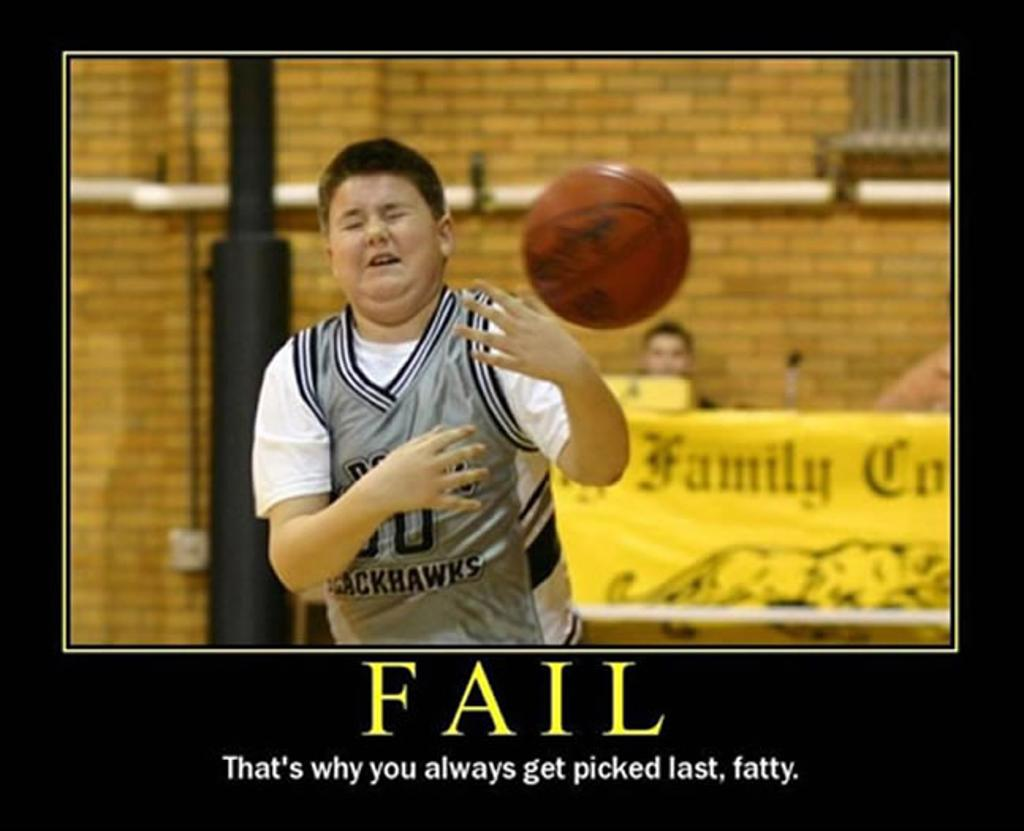face: (328, 177, 435, 293), (647, 343, 689, 381)
